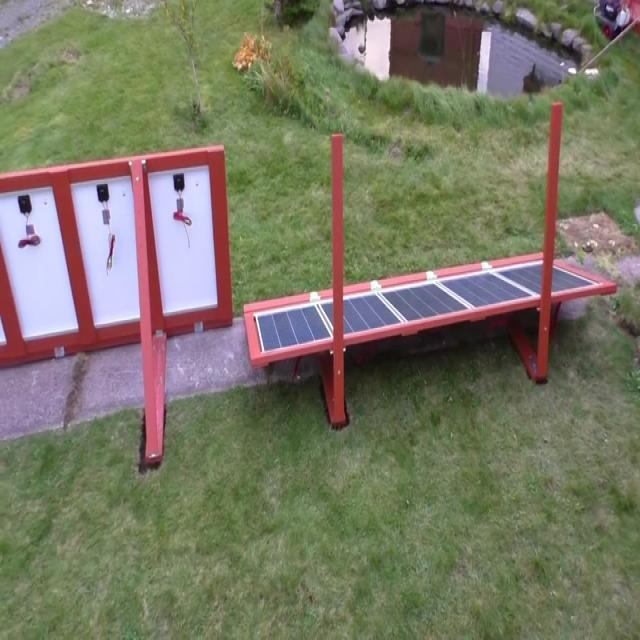Normal Solar Panel: (343, 260, 543, 333), (256, 301, 334, 353), (551, 266, 596, 293)
